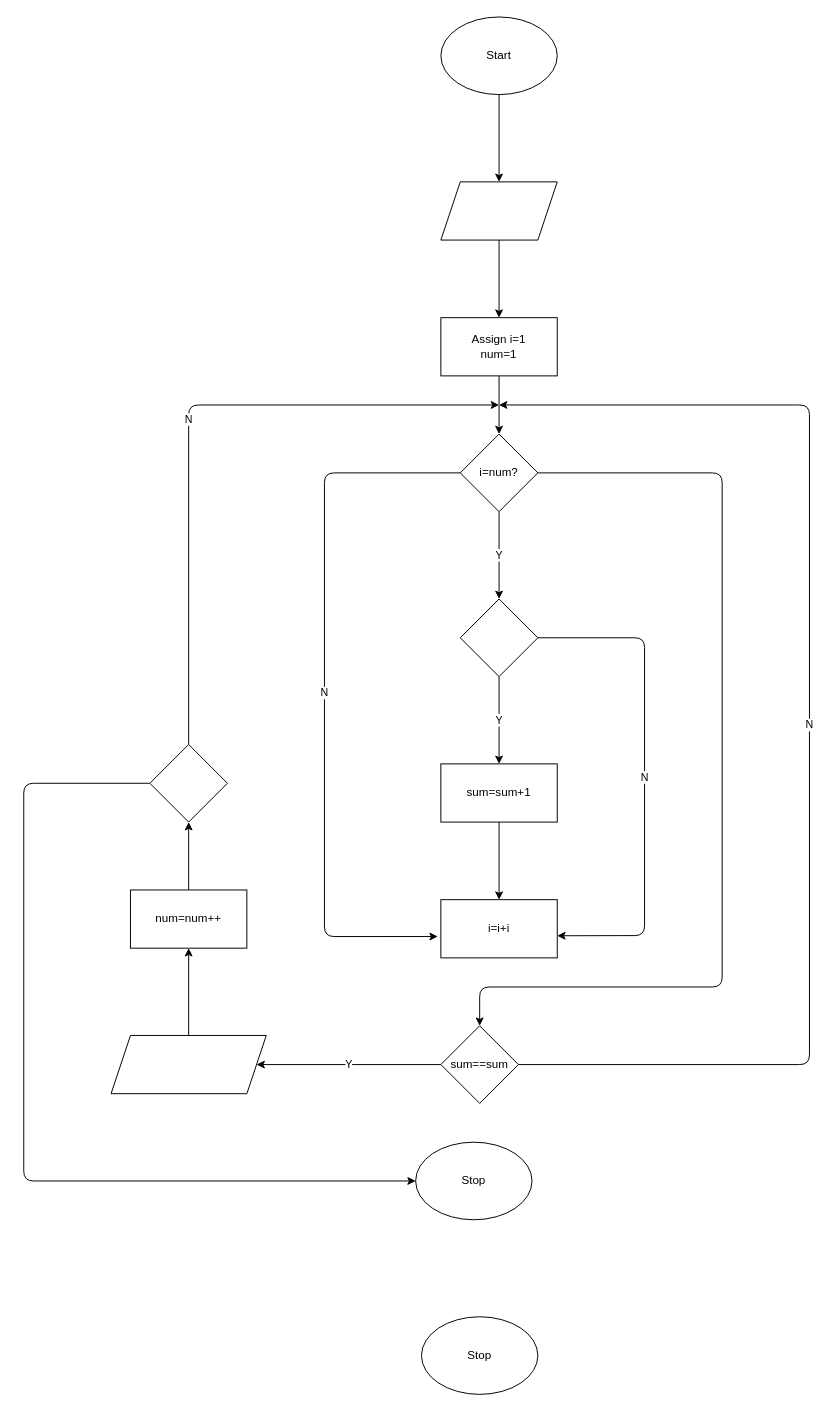
This 834x1411 diagram has some shape labels left out. Here are the shapes that lost their labels. From the top down, the centre of each, then its label:
(x=498, y=210): print num and N
(x=498, y=637): num%i==0
(x=188, y=783): num>=N
(x=188, y=1064): Print num
